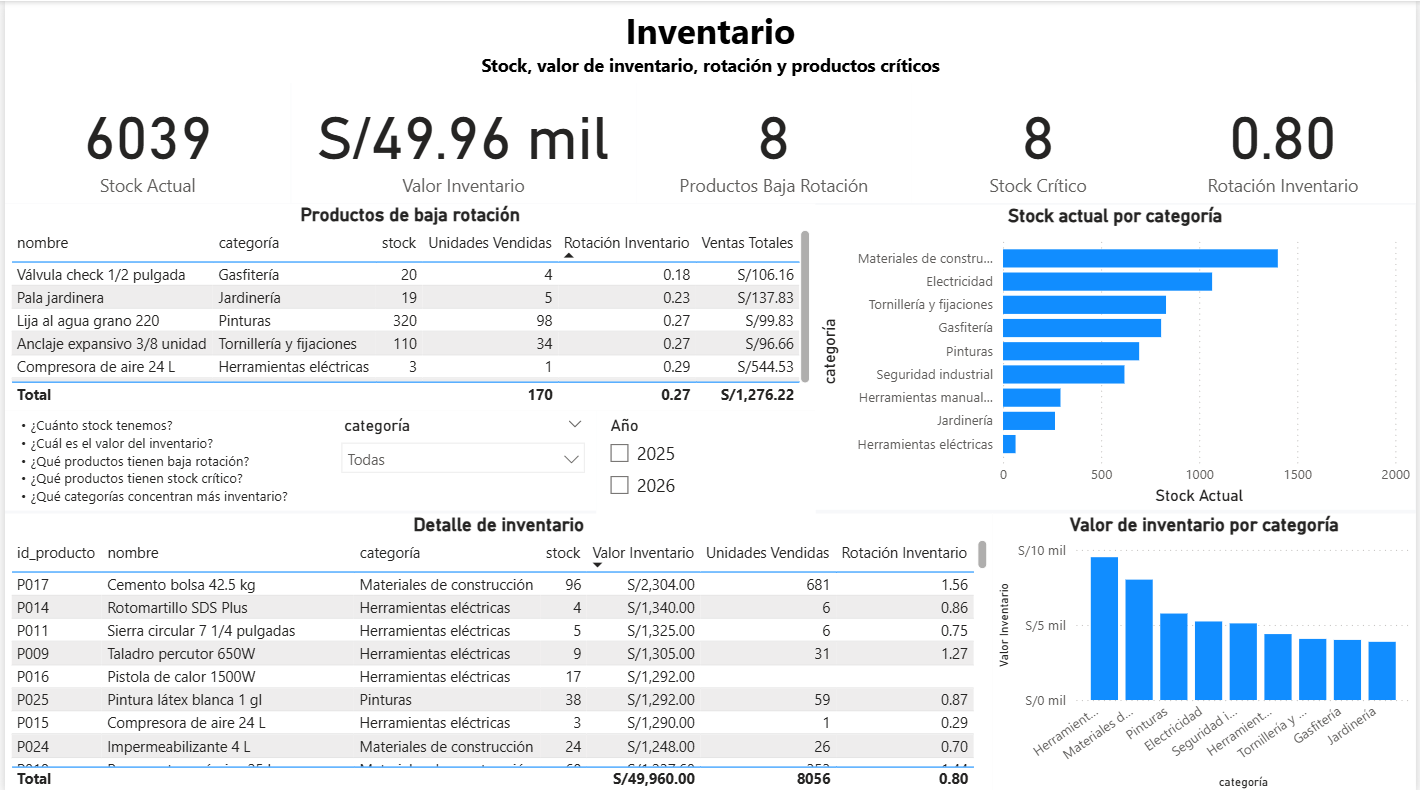

The page's visual inventory and layout, read from the dashboard file:
{"tool":"powerbi","page":{"name":"Inventario","canvas":[1280,720],"ordinal":4},"visuals":[{"type":"card","fields":{"Values":["Medidas.Stock Actual"]},"box":[0,74.1,259.3,109.8],"z":0},{"type":"card","fields":{"Values":["Medidas.Rotación Inventario"]},"box":[1038.8,74.1,241.5,109.8],"z":1000},{"type":"card","fields":{"Values":["Medidas.Stock Crítico"]},"box":[822,74.1,230.5,109.8],"z":2000},{"type":"card","fields":{"Values":["Medidas.Valor Inventario"]},"box":[259.3,74.1,312.9,109.8],"z":3000},{"type":"card","fields":{"Values":["Medidas.Productos Baja Rotación"]},"box":[572.2,74.1,249.7,109.8],"z":4000},{"type":"tableEx","title":"Productos de baja rotación","fields":{"Values":["Productos.nombre","Productos.categoría","Productos.stock","Medidas.Unidades Vendidas","Medidas.Rotación Inventario","Medidas.Ventas Totales"]},"box":[0,183.9,735.5,188],"z":5000},{"type":"clusteredBarChart","title":"Stock actual por categoría","fields":{"Category":["Productos.categoría"],"Y":["Medidas.Stock Actual"]},"box":[735.5,185.2,544.8,277.2],"z":6000},{"type":"columnChart","title":"Valor de inventario por categoría","fields":{"Category":["Productos.categoría"],"Y":["Medidas.Valor Inventario"]},"box":[896.1,465.2,384.2,255.2],"z":7000},{"type":"tableEx","title":"Detalle de inventario","fields":{"Values":["Productos.id_producto","Productos.nombre","Productos.categoría","Productos.stock","Medidas.Valor Inventario","Medidas.Unidades Vendidas","Medidas.Rotación Inventario"]},"box":[0,465.2,896.1,255.2],"z":8000},{"type":"slicer","fields":{"Values":["Productos.categoría"]},"box":[295,371.9,241.5,90.6],"z":9000},{"type":"slicer","fields":{"Values":["Calendario.Año"]},"box":[536.5,371.9,199,93.3],"z":10000},{"type":"textbox","box":[0,0,1280.3,74.1],"z":11000},{"type":"textbox","box":[0,371.9,295,90.6],"z":11001}]}

Visuals, with their boxes in screenshot pixels (x1, y1, x2, y2), scaled from the page's 1280x720 canvas onto the 1420x790 screenshot:
card - Medidas.Stock Actual: select_region(0, 81, 288, 202)
card - Medidas.Rotación Inventario: select_region(1152, 81, 1419, 202)
card - Medidas.Stock Crítico: select_region(912, 81, 1168, 202)
card - Medidas.Valor Inventario: select_region(288, 81, 635, 202)
card - Medidas.Productos Baja Rotación: select_region(635, 81, 912, 202)
"Productos de baja rotación" tableEx: select_region(0, 202, 816, 408)
"Stock actual por categoría" clusteredBarChart: select_region(816, 203, 1419, 507)
"Valor de inventario por categoría" columnChart: select_region(994, 510, 1419, 789)
"Detalle de inventario" tableEx: select_region(0, 510, 994, 789)
slicer - Productos.categoría: select_region(327, 408, 595, 507)
slicer - Calendario.Año: select_region(595, 408, 816, 510)
textbox: select_region(0, 0, 1419, 81)
textbox: select_region(0, 408, 327, 507)
